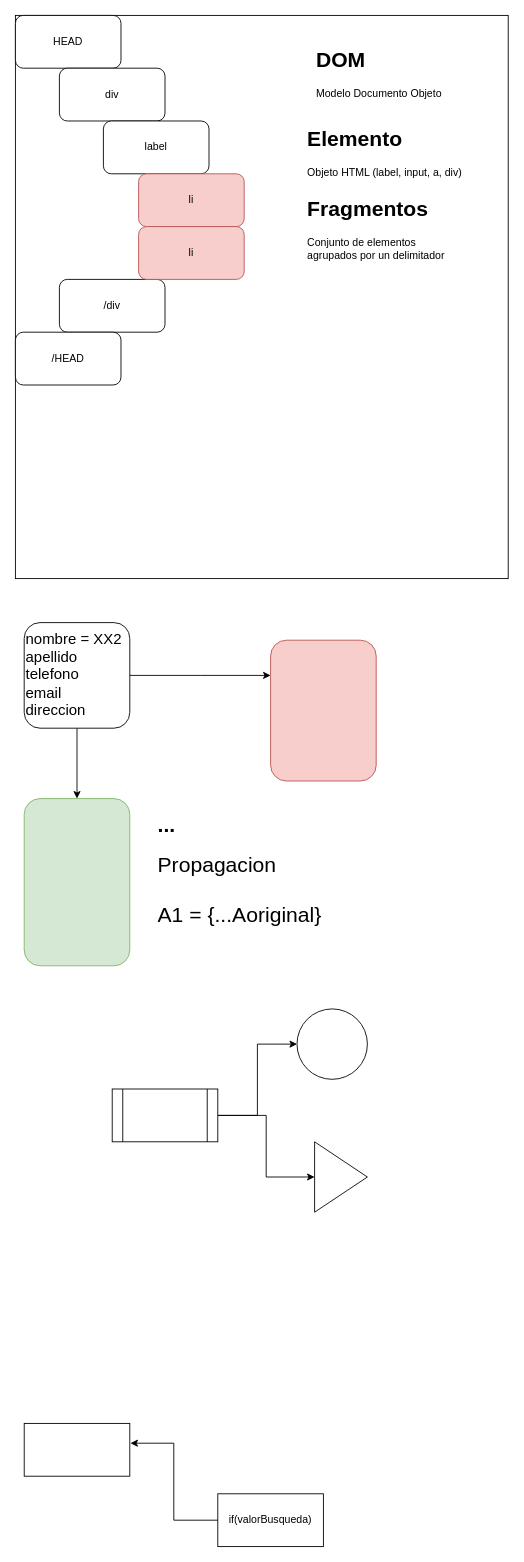
This 524x1562 diagram has some shape labels left out. The shapes that lost their labels are listed below. From the top down, each one's box as (x1, y1, x2, y2) in pixels, then its label:
(270, 639, 376, 781): nombre = XX2 apelllido telefono email direccion
(23, 798, 130, 966): nombre = XX1 apellido telefono email direccion
(23, 1423, 130, 1476): valorBusqueda
